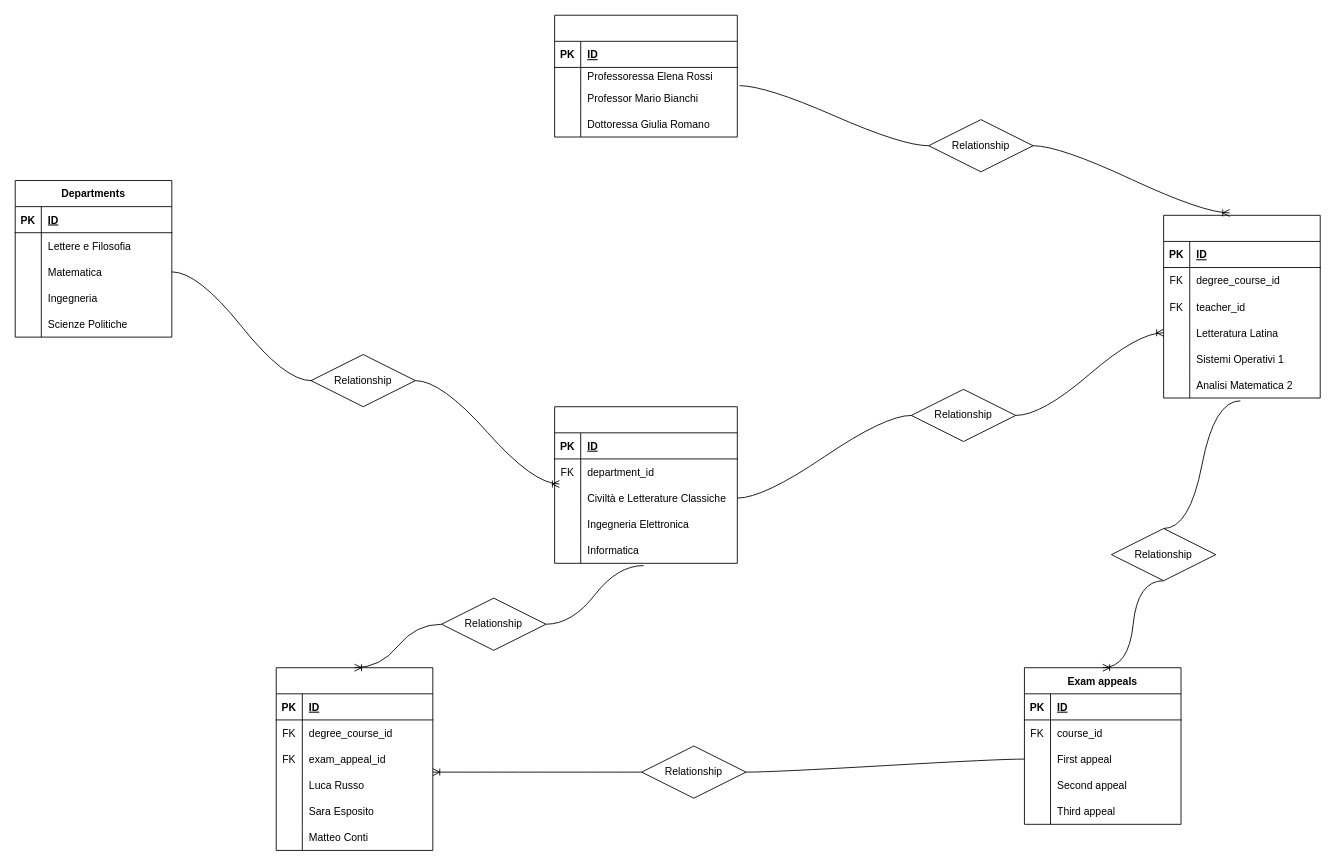
Some shapes in this 1335 by 866 pixel diagram are drawn without their labels. Here are the shapes that lost their labels. From the top down, the box of each, then its label:
(554, 14, 737, 137): Teachers
(1163, 214, 1320, 398): Courses
(554, 406, 737, 563): Degree courses
(275, 667, 433, 850): Students
